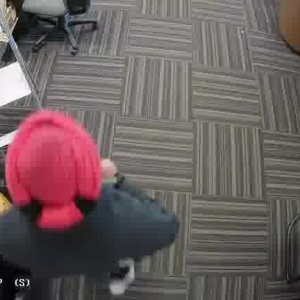person: (4, 107, 164, 296)
